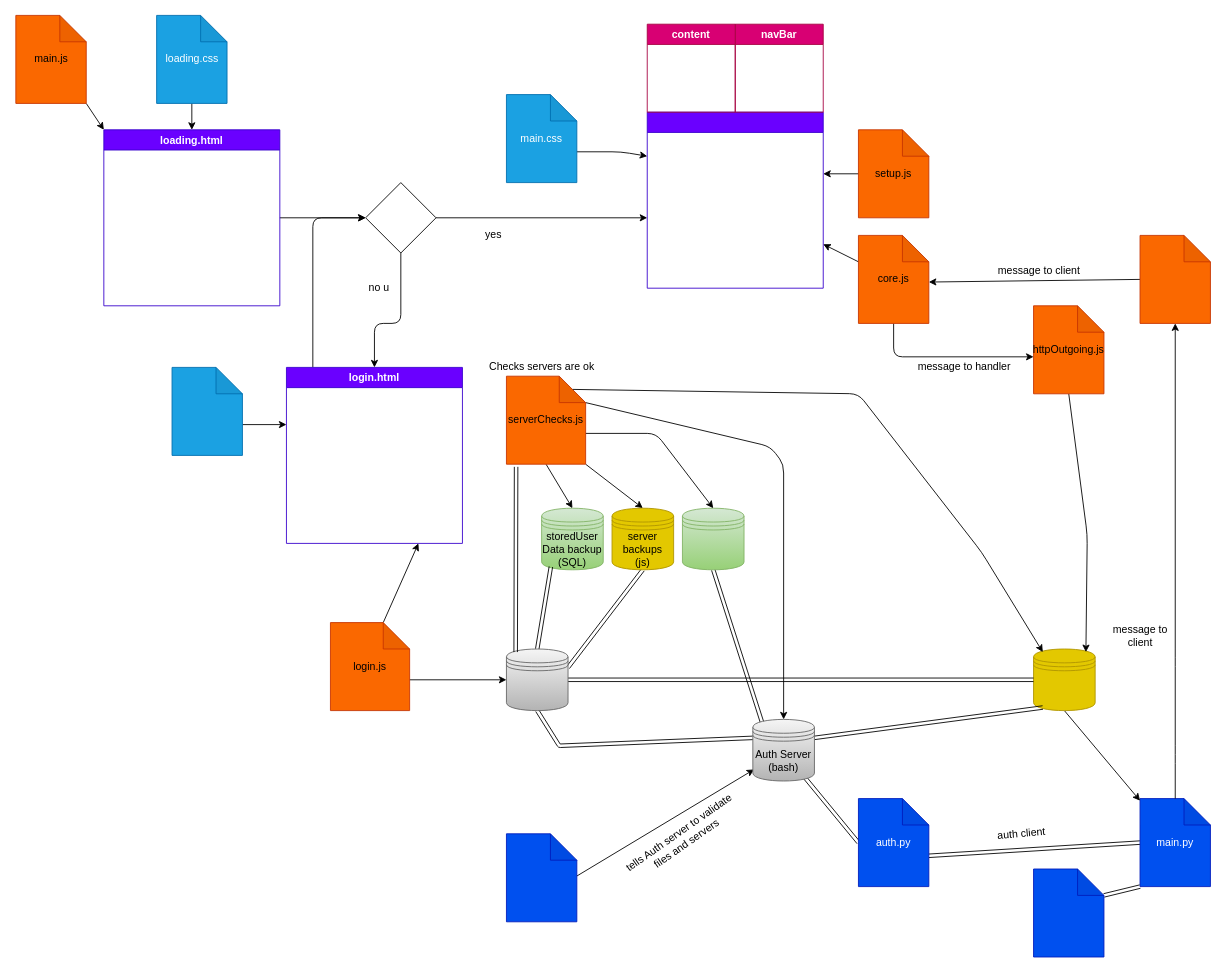
This 1226x972 diagram has some shape labels left out. Here are the shapes that lost their labels. From the top down, the centre of each, then its label:
At (400,217): "logged in ?".
At (734,199): "land.html".
At (1174,279): "httpIncoming.js".
At (206,411): "login.css".
At (713,538): "storedUser Data (SQL)".
At (537,679): "Server Handler (bash)".
At (1064,679): "Js Server".
At (541,877): "updates.py".
At (1068,912): "dmhandling.py".
